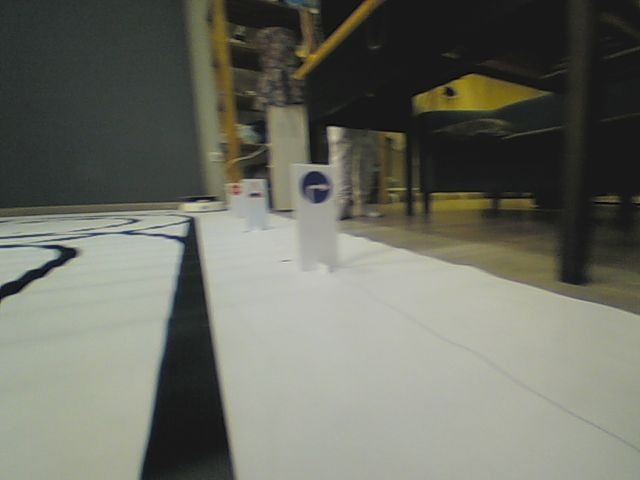Right: (299, 169, 332, 206)
